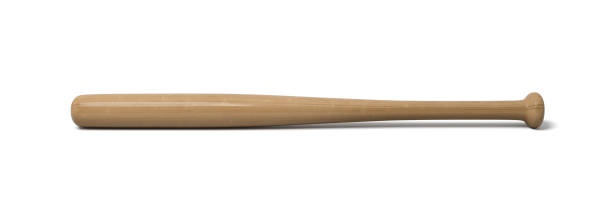bita: (69, 96, 550, 127)
